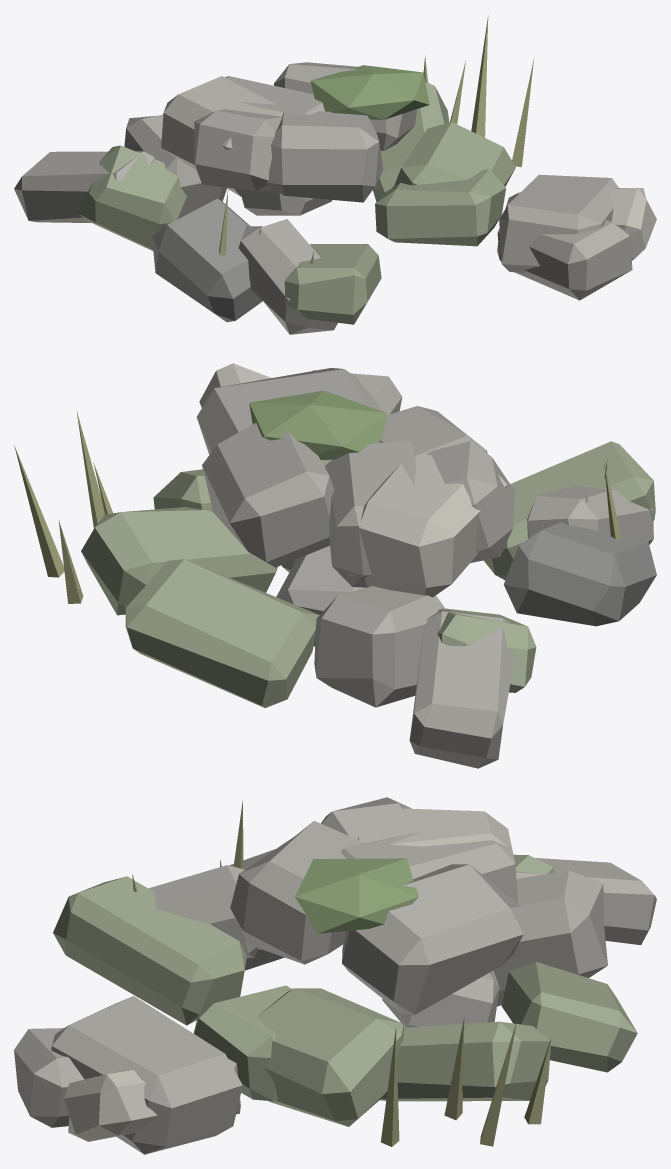
File: Ruin_Rubble.fbx
The picture shows the model from 3 angles, top to bottom: view 1: azimuth 30°, elevation 25°; view 2: azimuth 150°, elevation 25°; view 3: azimuth 270°, elevation 25°; orthographic projection. The views are drawn at different scales.
Visible parts, largest first — view 1: Ruin_Rubble; view 2: Ruin_Rubble; view 3: Ruin_Rubble.
Boxes of the visible parts, bbox=[...] form: Ruin_Rubble: bbox=[14, 15, 656, 334]; Ruin_Rubble: bbox=[14, 363, 656, 768]; Ruin_Rubble: bbox=[14, 797, 656, 1154].
Size of the model in its own units: 2.31 by 0.833 by 2.36.
